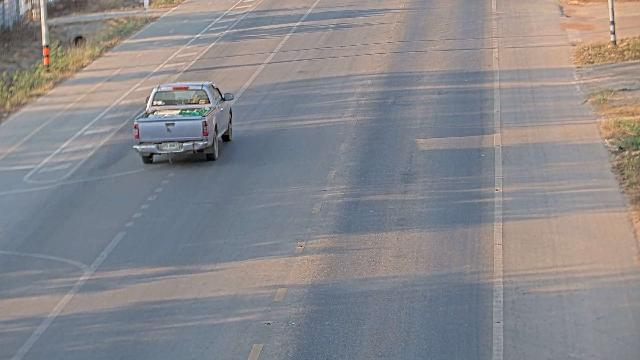pickup-truck: (132, 80, 234, 164)
